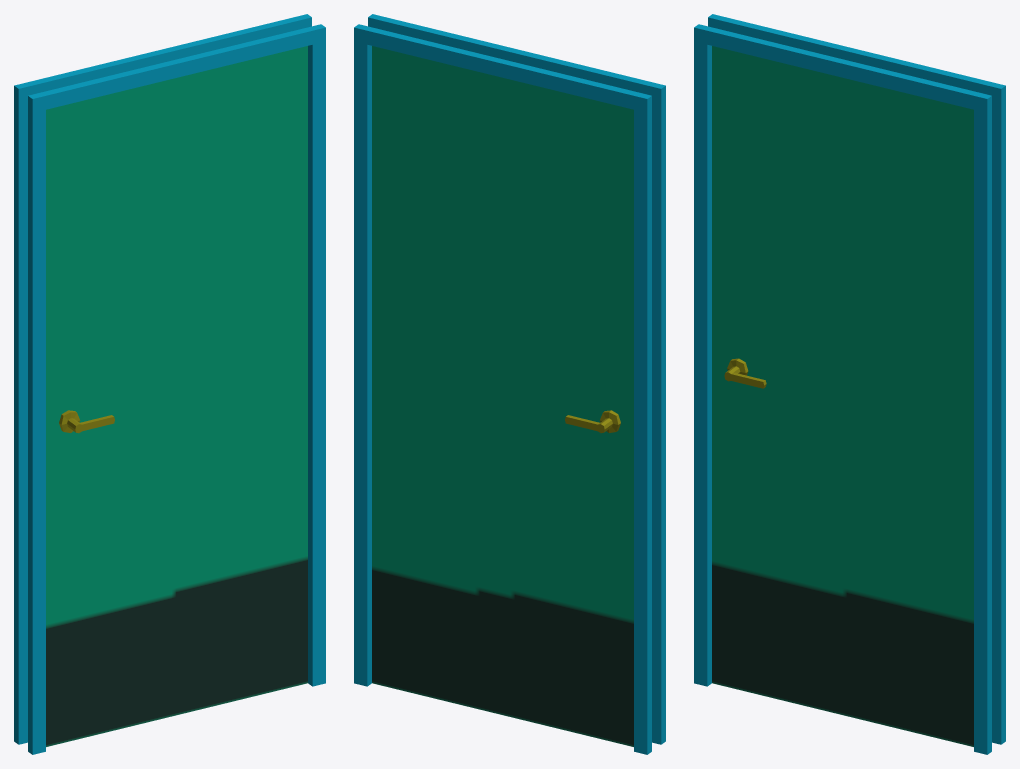
The model's file is door_for_hostel.glb.
3 renders of one model, left to right at view 1: azimuth 30°, elevation 25°; view 2: azimuth 150°, elevation 25°; view 3: azimuth 330°, elevation 25°, orthographic.
Parts seen in each view (by area): view 1: door, board, door_handle2; view 2: door, board, door_handle1; view 3: door, board, door_handle2.
Boxes of the visible parts, x1,y1,x2,y2 form: door: (46,46,307,746); board: (14,14,325,754); door_handle2: (59,410,114,433); door: (372,46,633,746); board: (354,14,665,754); door_handle1: (565,410,620,433); door: (712,46,973,746); board: (694,14,1005,754); door_handle2: (724,358,766,388).
Size of what is drawn, in the model's own units: 1.1 by 2.35 by 0.2004.
Materials: 2 (2 with a texture image).
